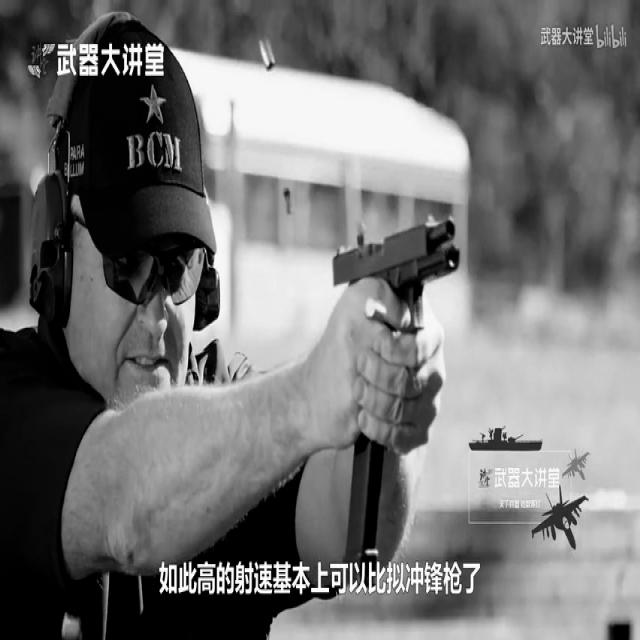Sub-machine-gun: (286, 199, 502, 574)
